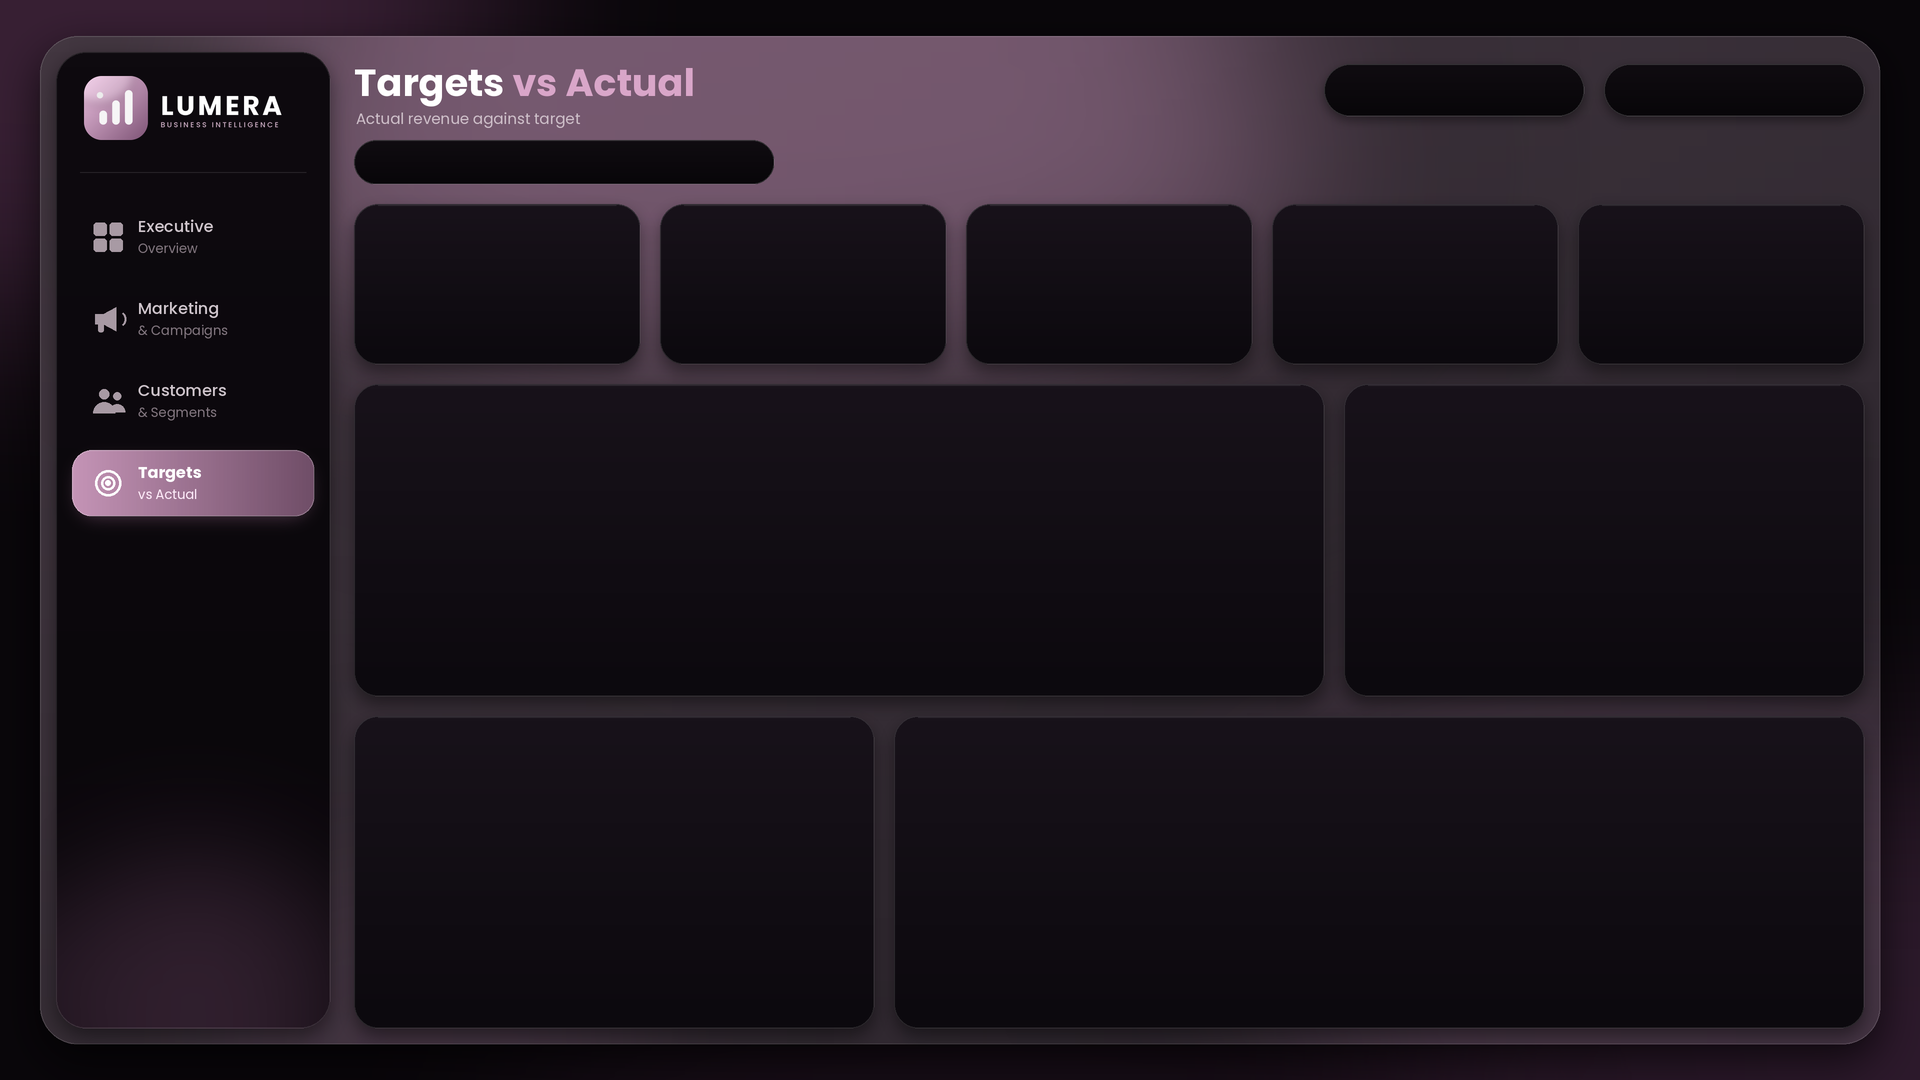

This screenshot's page, from the dashboard's own definition file:
{"tool":"powerbi","page":{"name":"Targets vs Actual","canvas":[1280,720],"ordinal":3},"visuals":[{"type":"cardVisual","fields":{"Data":["_measures.Units Sold"]},"box":[1051.6,116.4,206.2,141.3],"z":0},{"type":"cardVisual","fields":{"Data":["_measures.Target Revenue"]},"box":[228.4,125.3,201.8,124.4],"z":1},{"type":"cardVisual","fields":{"Data":["_measures.Target Attainment %"]},"box":[640,128.9,215.1,116.4],"z":2},{"type":"cardVisual","fields":{"Data":["_measures.Variance to Target"]},"box":[838.2,124.4,224.9,125.3],"z":3},{"type":"cardVisual","fields":{"Data":["_measures.Gross Sales"]},"box":[430.2,120,202.7,135.1],"z":4},{"type":"stackedAreaChart","title":"Gross Sales and Target Revenue per Month","fields":{"Category":["dim_date.Month_name"],"Y":["_measures.Gross Sales","_measures.Target Revenue"]},"box":[238.2,257.8,658.7,209.8],"z":5},{"type":"columnChart","title":"Target Attainment % By Campaign Name","fields":{"Category":["dim_campaign.campaign_name"],"Y":["_measures.Target Attainment %"]},"box":[238.2,481.8,358.2,202.7],"z":6},{"type":"columnChart","title":"Target Attainment % By Region","fields":{"Category":["dim_customer.region"],"Y":["_measures.Target Attainment %"]},"box":[896.9,257.8,353.8,209.8],"z":7},{"type":"barChart","title":"Target Attainment % By Account Manager","fields":{"Category":["dim_customer.account_manager"],"Y":["_measures.Target Attainment %"]},"box":[596.4,481.8,654.2,208.9],"z":8},{"type":"pageNavigator","box":[39.9,121.6,175.1,226.6],"z":9},{"type":"slicer","fields":{"Values":["dim_date.year"]},"box":[885.3,35.6,166.2,54.2],"z":10},{"type":"slicer","fields":{"Values":["dim_geo.region"]},"box":[1071.1,35.6,173.3,54.2],"z":11},{"type":"htmlContent443BE3AD55E043BF878BED274D3A6855","fields":{"content":["_measures.Animated Name"]},"box":[222.2,86.2,336,48],"z":12}]}

Visuals, with their boxes on the page's 1280x720 design canvas (x1, y1, x2, y2). These are canvas units, not pixel positions in the 1920x1080 screenshot, which may show the page scaled, cropped or inside an application window:
cardVisual - _measures.Units Sold: 1052, 116, 1258, 258
cardVisual - _measures.Target Revenue: 228, 125, 430, 250
cardVisual - _measures.Target Attainment %: 640, 129, 855, 245
cardVisual - _measures.Variance to Target: 838, 124, 1063, 250
cardVisual - _measures.Gross Sales: 430, 120, 633, 255
"Gross Sales and Target Revenue per Month" stackedAreaChart: 238, 258, 897, 468
"Target Attainment % By Campaign Name" columnChart: 238, 482, 596, 684
"Target Attainment % By Region" columnChart: 897, 258, 1251, 468
"Target Attainment % By Account Manager" barChart: 596, 482, 1251, 691
pageNavigator: 40, 122, 215, 348
slicer - dim_date.year: 885, 36, 1052, 90
slicer - dim_geo.region: 1071, 36, 1244, 90
htmlContent443BE3AD55E043BF878BED274D3A6855 - _measures.Animated Name: 222, 86, 558, 134
